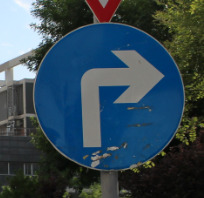right_turn: (32, 21, 184, 170)
